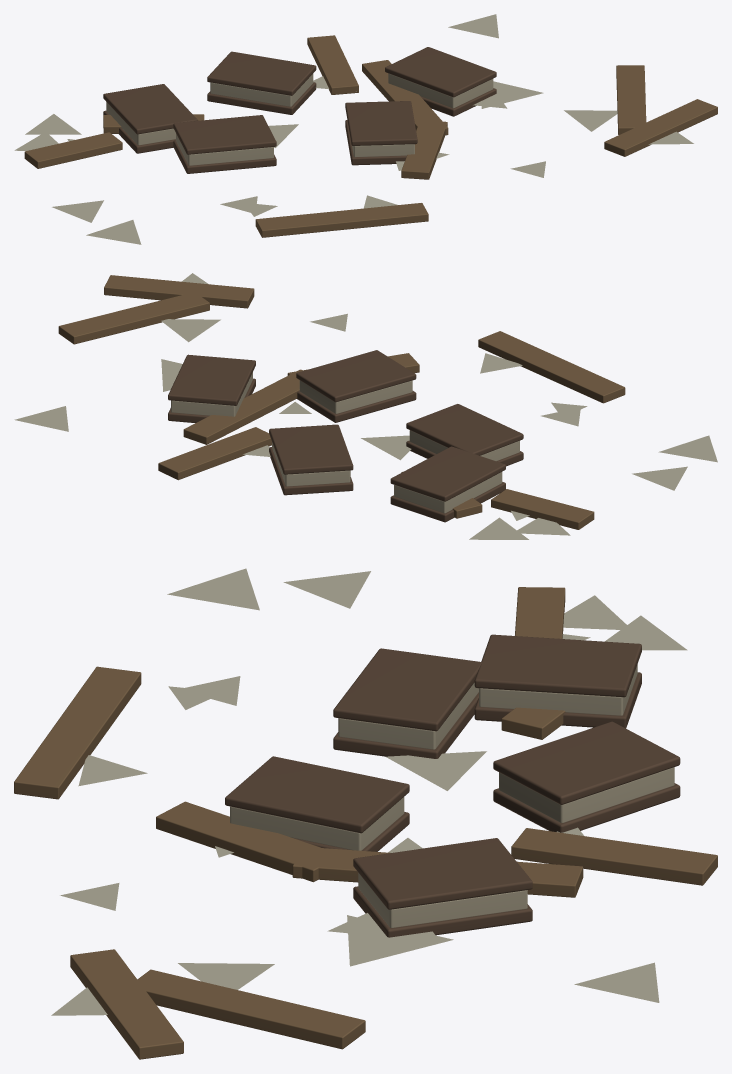
The model's file is litter.glb.
3 renders of one model, top to bottom at view 1: azimuth 30°, elevation 25°; view 2: azimuth 150°, elevation 25°; view 3: azimuth 270°, elevation 25°, orthographic. The views are drawn at different scales.
Visible parts, largest first — view 1: litter; view 2: litter; view 3: litter.
Boxes of the visible parts, x1=… form: litter: x1=14, y1=14, x2=717, y2=244; litter: x1=14, y1=273, x2=717, y2=539; litter: x1=14, y1=568, x2=717, y2=1059.
Bounding box in the file's own units: 2.93 × 0.115 × 1.79.
